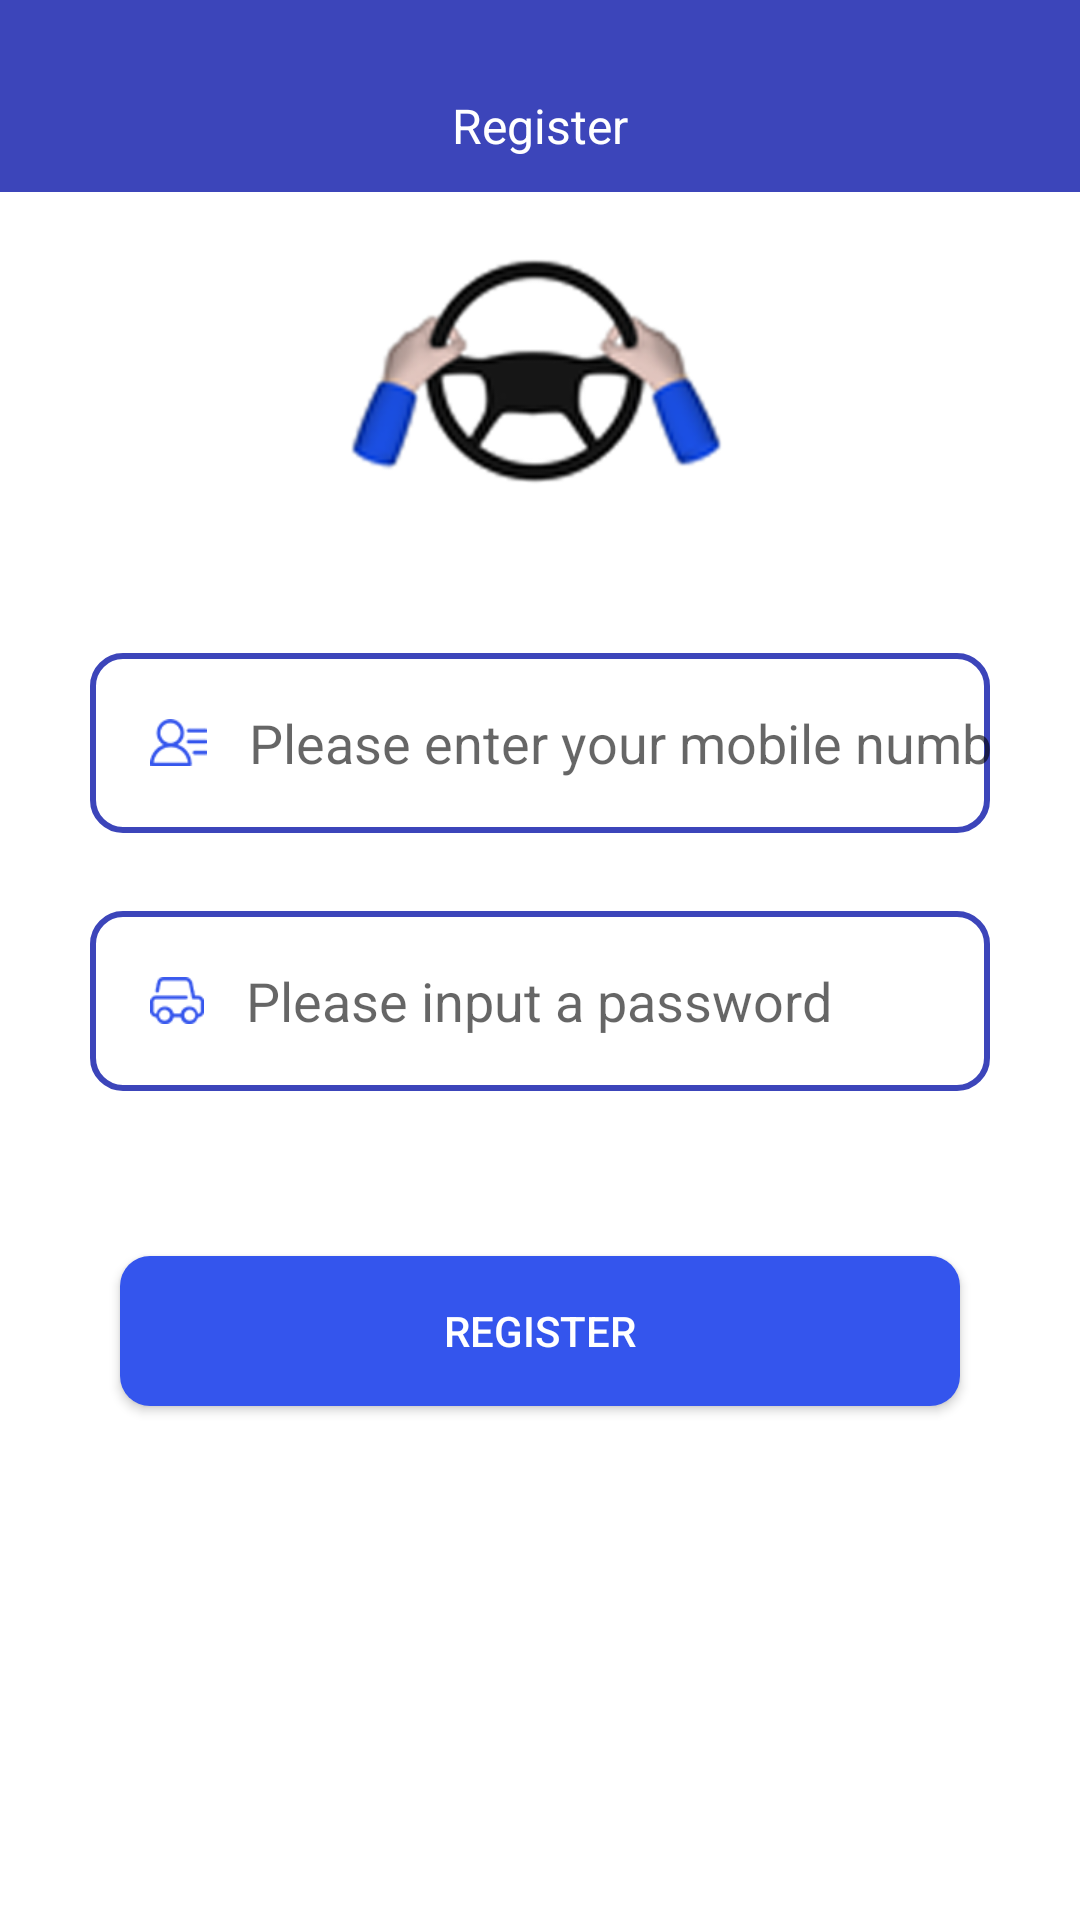

Named icons in this screenshot (1080×1920) and their centers, (x=x, y=y):
account: (x=178, y=742)
